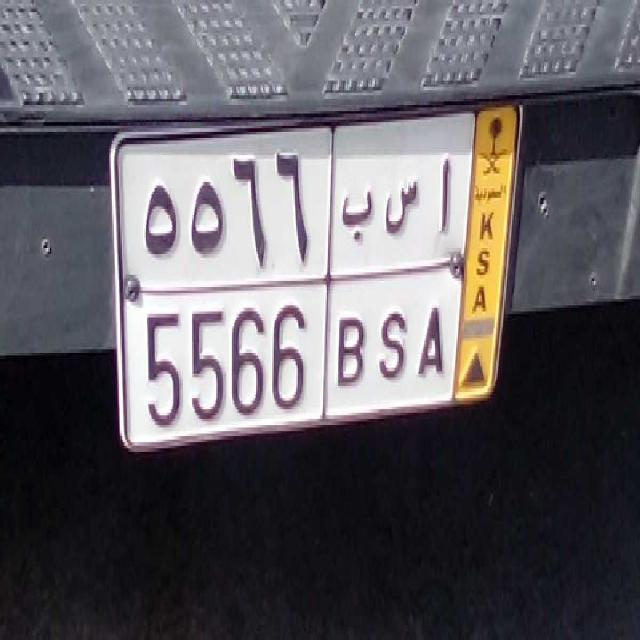license_plate: (138, 277, 452, 442)
